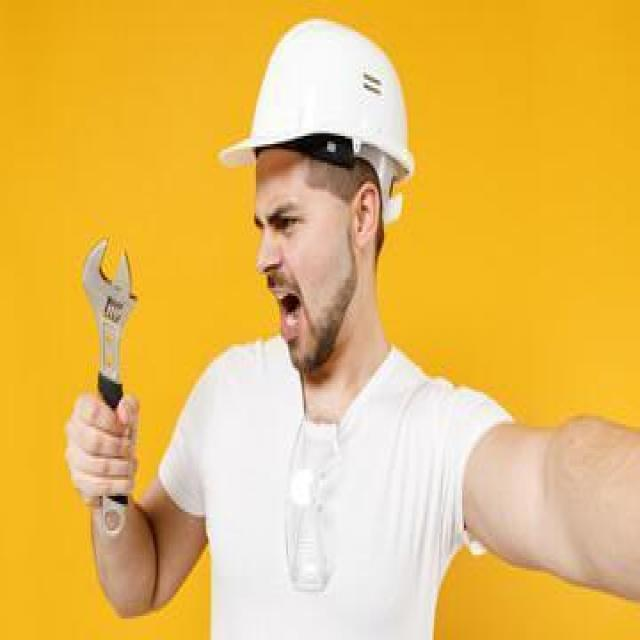hat: (218, 18, 414, 185)
